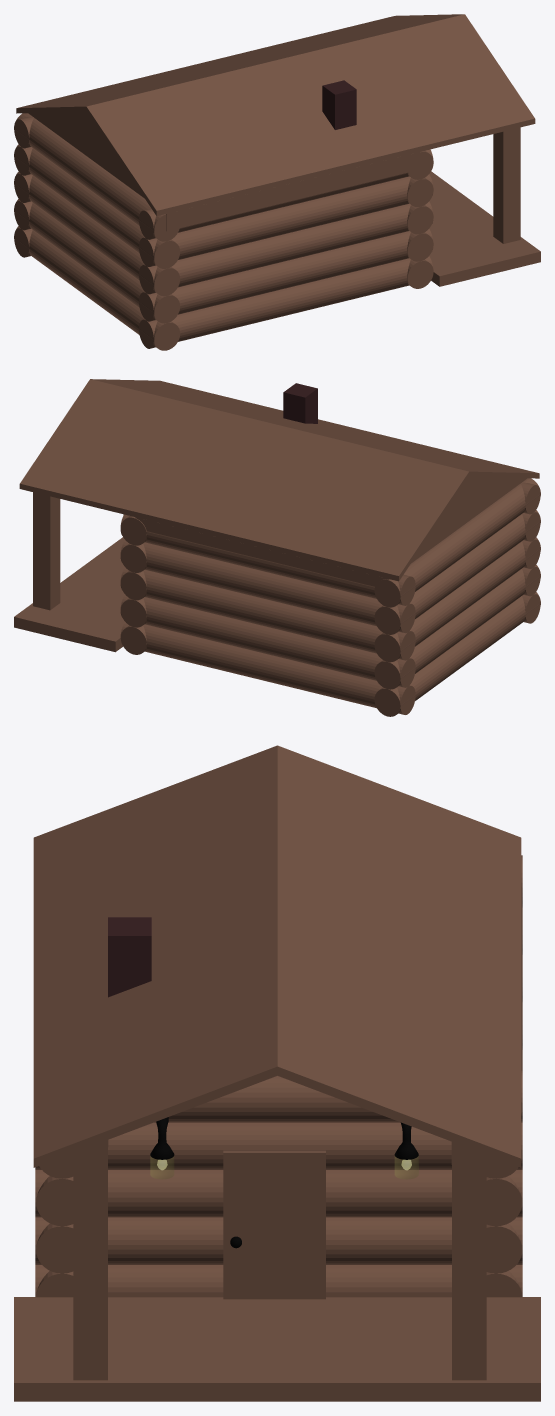
Rendered from Log Cabin January 27th.fbx.
3 renders of one model, top to bottom at view 1: azimuth 30°, elevation 25°; view 2: azimuth 150°, elevation 25°; view 3: azimuth 270°, elevation 25°, orthographic. The views are drawn at different scales.
Visible parts, largest first — view 1: Roof Extension, Left Wall, Back Wall, Roof, Porch Floor, Left Post, Front Wall, Right Wall, Chimney; view 2: Roof Extension, Right Wall, Back Wall, Porch Floor, Roof, Right Post, Front Wall, Left Wall, Chimney; view 3: Roof Extension, Front Wall, Porch Floor, Door, Left Post, Right Post, Right Wall, Left Wall, Chimney, Outdoor Light.001, Outdoor Light.
Part boxes in pixels (box(x1,y1,x2,y2)): Roof Extension: box(16, 14, 535, 215); Left Wall: box(139, 149, 433, 348); Back Wall: box(14, 113, 180, 350); Roof: box(28, 112, 419, 231); Porch Floor: box(429, 171, 540, 286); Left Post: box(493, 127, 520, 243); Front Wall: box(407, 151, 433, 288); Right Wall: box(14, 117, 33, 257); Chimney: box(322, 80, 356, 129); Roof Extension: box(19, 379, 539, 581); Right Wall: box(120, 514, 415, 714); Back Wall: box(374, 478, 540, 716); Porch Floor: box(14, 537, 124, 652); Roof: box(135, 477, 526, 586); Right Post: box(33, 492, 60, 610); Front Wall: box(120, 516, 146, 654); Left Wall: box(520, 482, 540, 623); Chimney: box(283, 383, 317, 423); Roof Extension: box(33, 745, 521, 1167); Front Wall: box(35, 1070, 522, 1297); Porch Floor: box(14, 1297, 540, 1401); Door: box(223, 1150, 325, 1299); Left Post: box(73, 1140, 108, 1380); Right Post: box(451, 1142, 486, 1380); Right Wall: box(486, 886, 522, 1297); Left Wall: box(36, 1153, 73, 1297); Chimney: box(108, 917, 151, 997); Outdoor Light.001: box(150, 1117, 174, 1179); Outdoor Light: box(394, 1122, 418, 1179).
Size of the model in its own units: 751 by 369 by 518.
